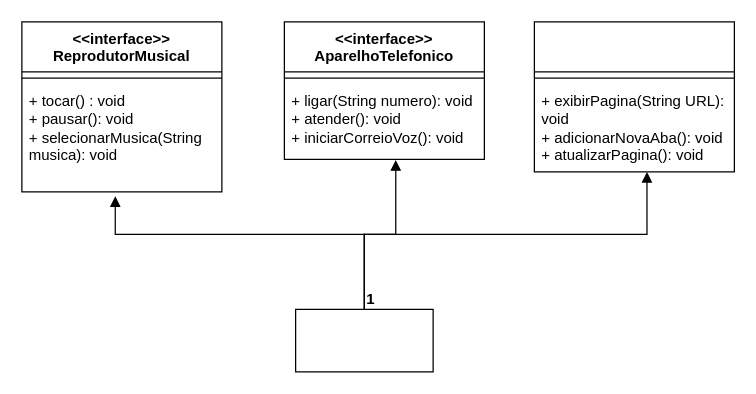
This 756x394 diagram has some shape labels left out. The box of each missing label's shape, as (x1, y1, x2, y2) in pixels:
<<interface>> NavegadorInternet: (533, 21, 734, 172)
iPhone: (294, 308, 433, 372)
